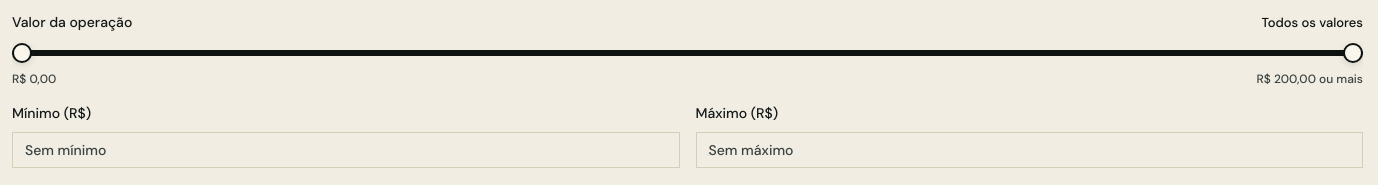
Test: faixa monetária com controles e digitação › sincroniza centavos digitados e ajustes pelo teclado
The image size is (1378, 185).
Type "25,50" into the field named "Valor mínimo".
click(346, 150); type("25,50")  # box [12,132,680,168]
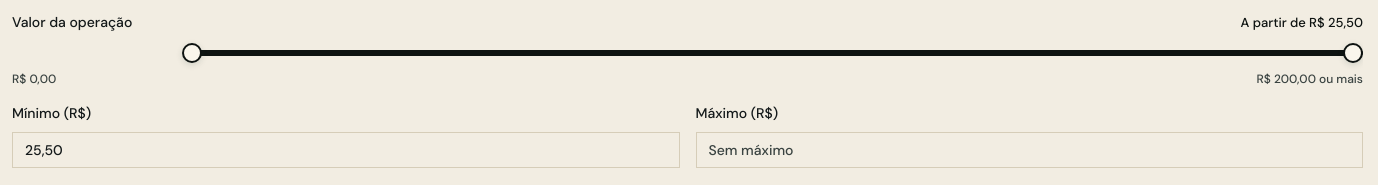
Type "100,75" into the field named "Valor máximo".
click(1029, 150); type("100,75")  # box [696,132,1363,168]
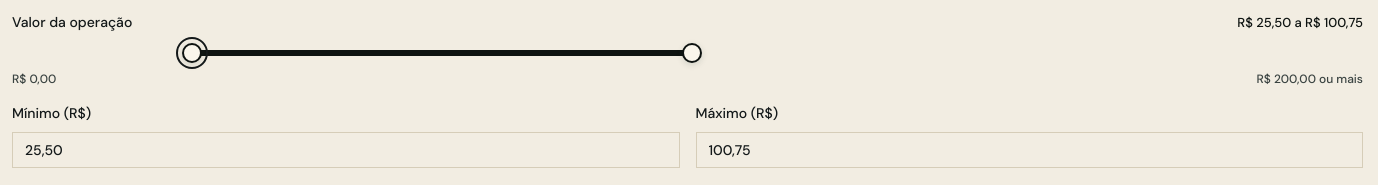
Result: the slider named "Ajustar valor mínimo" has attribute aria-valuenow="25.5"
Result: the slider named "Ajustar valor máximo" has attribute aria-valuenow="100.75" at [682,43,702,63]
Press ArrowRight in the slider named "Ajustar valor mínimo", box [182,43,202,63]
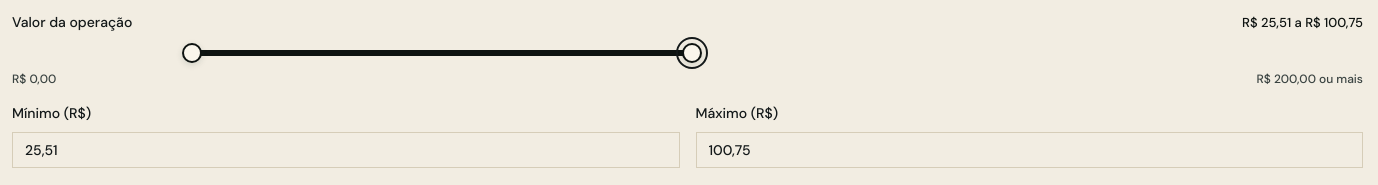
Result: the field named "Valor mínimo" holds "25,51" at [12,132,680,168]
Press ArrowLeft in the slider named "Ajustar valor máximo", box [682,43,702,63]
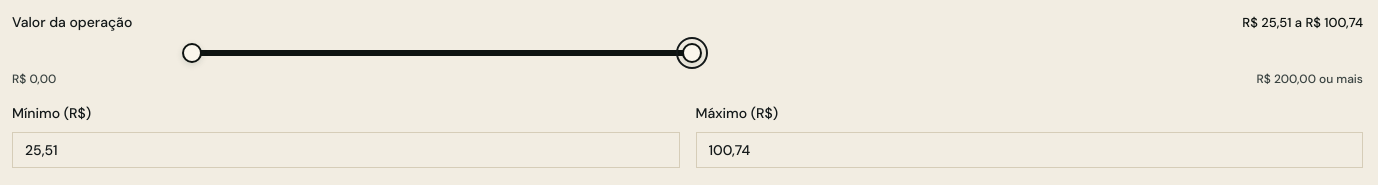
Result: the field named "Valor máximo" holds "100,74" at [696,132,1363,168]
